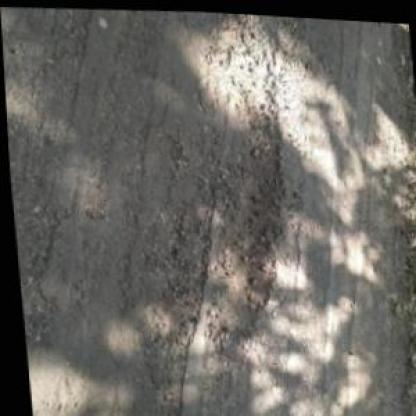pothole: (190, 92, 299, 340)
